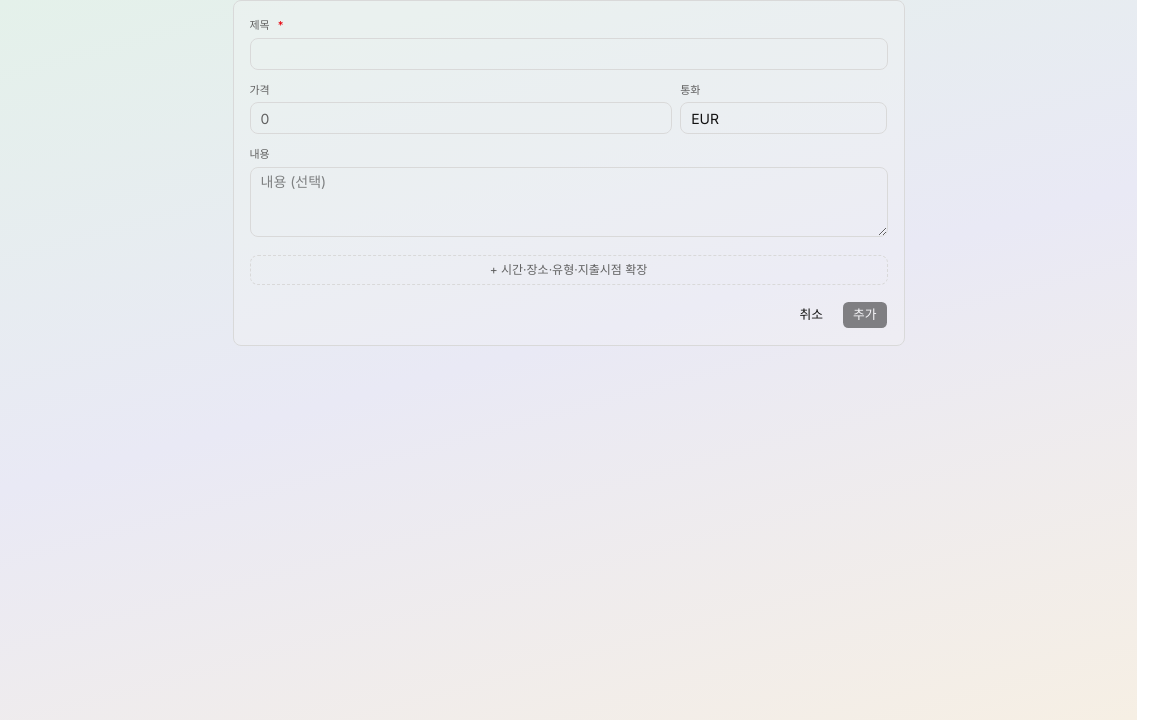
Scenario: ActivityForm › 지출 시점 디폴트를 timingDefault 로 잡는다(여행전=사전)
What coordinates should you click on to do the following:
click the button "+ 시간·장소·유형·지출시점 확장"
I would click on:
 (568, 270)
Its box is [250,254,888,284].
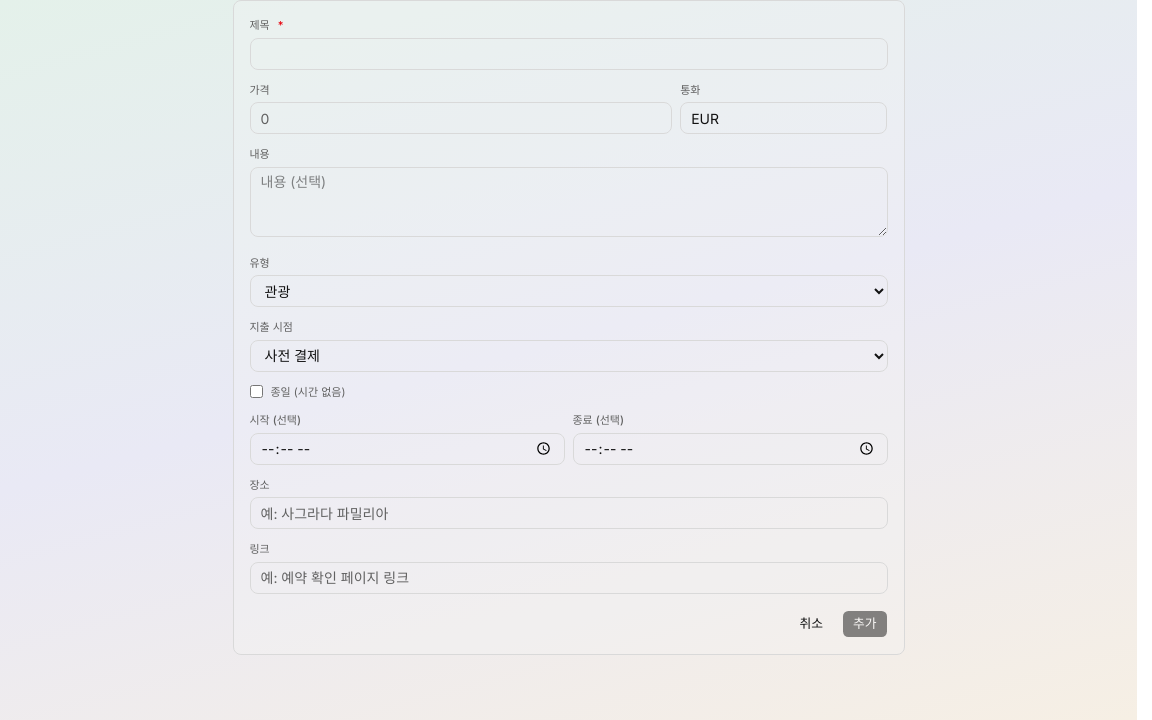
Expected: the dropdown labelled "지출 시점" shows "사전 결제", [250,340,888,372]
